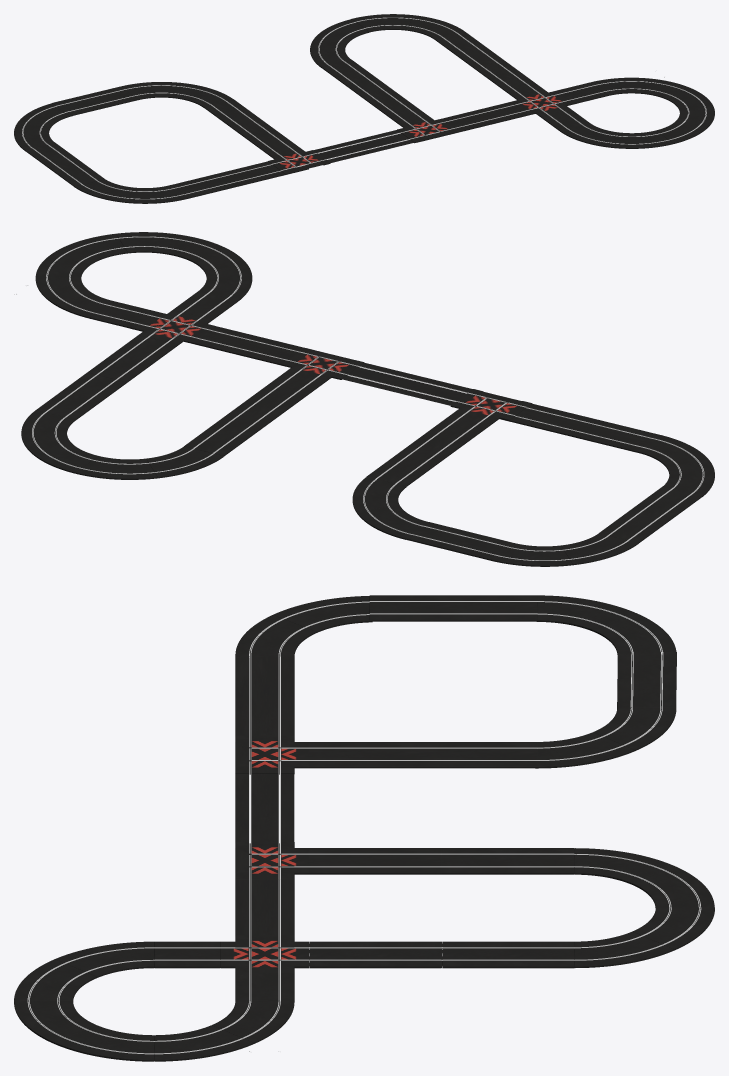
File: track.glb
3 views of the same model, one above another, from view 1: azimuth 30°, elevation 25°; view 2: azimuth 150°, elevation 25°; view 3: azimuth 270°, elevation 25° (orthographic). The views are drawn at different scales.
Visible parts, largest first — view 1: Plastic_Matte-material.028, Plastic_Matte-material.020, Plastic_Matte-material.024, Plastic_Matte-material.015, Plastic_Matte-material.013, Plastic_Matte-material.027, Plastic_Matte-material, Plastic_Matte-material.005, Plastic_Matte-material.014, Plastic_Matte-material.018, Plastic_Matte-material.011, Plastic_Matte-material.001 (+23 smaller); view 2: Plastic_Matte-material.028, Plastic_Matte-material.020, Plastic_Matte-material.024, Plastic_Matte-material.015, Plastic_Matte-material.013, Plastic_Matte-material.027, Plastic_Matte-material, Plastic_Matte-material.005, Plastic_Matte-material.018, Plastic_Matte-material.014, Plastic_Matte-material.021, Plastic_Matte-material.008 (+23 smaller); view 3: Plastic_Matte-material.028, Plastic_Matte-material.020, Plastic_Matte-material.024, Plastic_Matte-material.015, Plastic_Matte-material.013, Plastic_Matte-material.014, Plastic_Matte-material.018, Plastic_Matte-material, Plastic_Matte-material.005, Plastic_Matte-material.027, Plastic_Matte-material.009, Plastic_Matte-material.010 (+23 smaller).
Part boxes in pixels (left/top/right/bottom): Plastic_Matte-material.028: left=203, top=99, right=300, bottom=155; Plastic_Matte-material.020: left=171, top=161, right=316, bottom=197; Plastic_Matte-material.024: left=25, top=142, right=104, bottom=186; Plastic_Matte-material.015: left=313, top=130, right=413, bottom=166; Plastic_Matte-material.013: left=412, top=94, right=558, bottom=140; Plastic_Matte-material.027: left=53, top=86, right=137, bottom=115; Plastic_Matte-material: left=361, top=88, right=429, bottom=124; Plastic_Matte-material.005: left=322, top=59, right=390, bottom=95; Plastic_Matte-material.014: left=435, top=32, right=504, bottom=67; Plastic_Matte-material.018: left=475, top=60, right=543, bottom=96; Plastic_Matte-material.011: left=590, top=77, right=652, bottom=94; Plastic_Matte-material.001: left=127, top=185, right=188, bottom=202; Plastic_Matte-material.028: left=366, top=412, right=493, bottom=486; Plastic_Matte-material.020: left=487, top=393, right=656, bottom=450; Plastic_Matte-material.024: left=599, top=486, right=702, bottom=542; Plastic_Matte-material.015: left=342, top=362, right=490, bottom=405; Plastic_Matte-material.013: left=141, top=312, right=353, bottom=373; Plastic_Matte-material.027: left=406, top=522, right=517, bottom=560; Plastic_Matte-material: left=236, top=371, right=325, bottom=418; Plastic_Matte-material.005: left=184, top=408, right=274, bottom=455; Plastic_Matte-material.018: left=87, top=335, right=177, bottom=381; Plastic_Matte-material.014: left=36, top=372, right=125, bottom=419; Plastic_Matte-material.021: left=76, top=456, right=157, bottom=478; Plastic_Matte-material.008: left=116, top=232, right=197, bottom=254; Plastic_Matte-material.028: left=308, top=742, right=537, bottom=766; Plastic_Matte-material.020: left=235, top=656, right=294, bottom=762; Plastic_Matte-material.024: left=369, top=595, right=537, bottom=619; Plastic_Matte-material.015: left=235, top=762, right=294, bottom=841; Plastic_Matte-material.013: left=235, top=848, right=294, bottom=947; Plastic_Matte-material.014: left=442, top=941, right=574, bottom=966; Plastic_Matte-material.018: left=309, top=941, right=441, bottom=966; Plastic_Matte-material: left=308, top=848, right=441, bottom=872; Plastic_Matte-material.005: left=442, top=848, right=574, bottom=872; Plastic_Matte-material.027: left=617, top=651, right=676, bottom=707; Plastic_Matte-material.009: left=56, top=1025, right=154, bottom=1060; Plastic_Matte-material.010: left=154, top=1025, right=252, bottom=1060.
Bounding box in the file's own units: 2.9 × 0.00666 × 1.85.
Materials: 45 (27 with a texture image).
